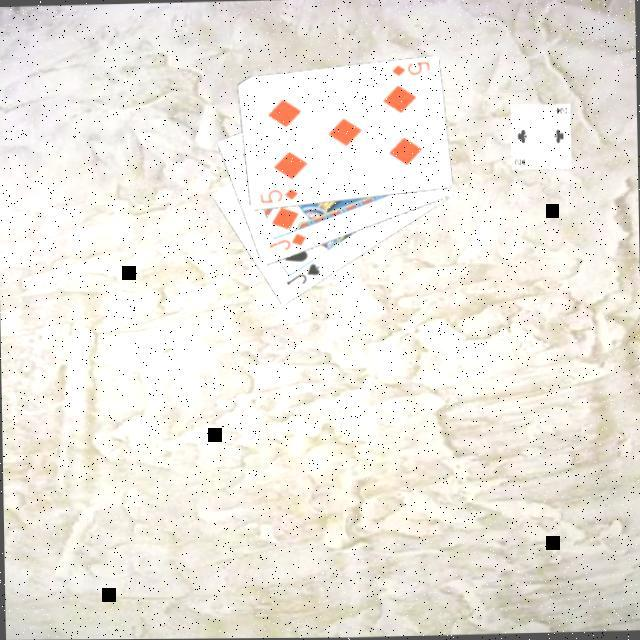5D: (258, 183, 302, 204), (389, 56, 433, 77)
JD: (268, 227, 311, 252)
JS: (284, 258, 324, 287)
